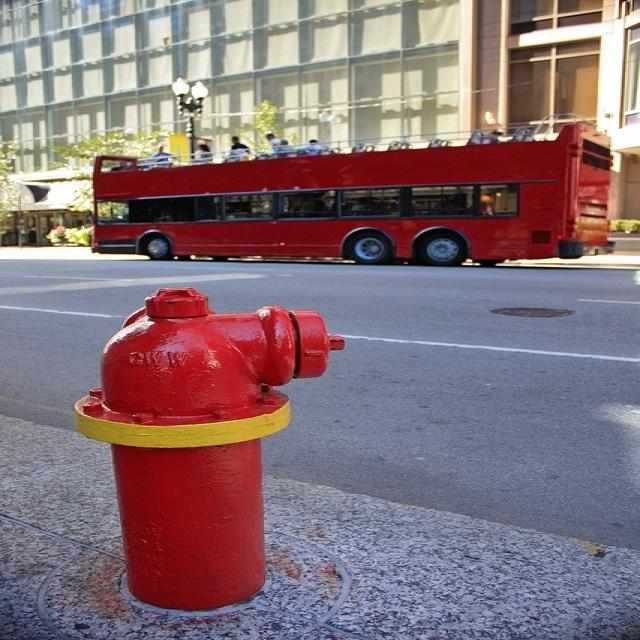fire_hydrant: (0, 264, 436, 639)
